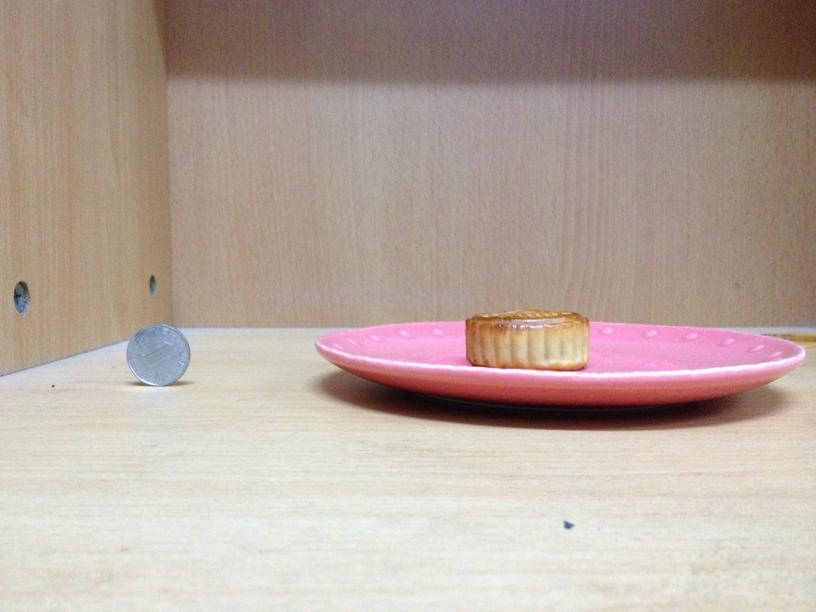coin: (126, 322, 188, 387)
mooncake: (462, 309, 591, 368)
